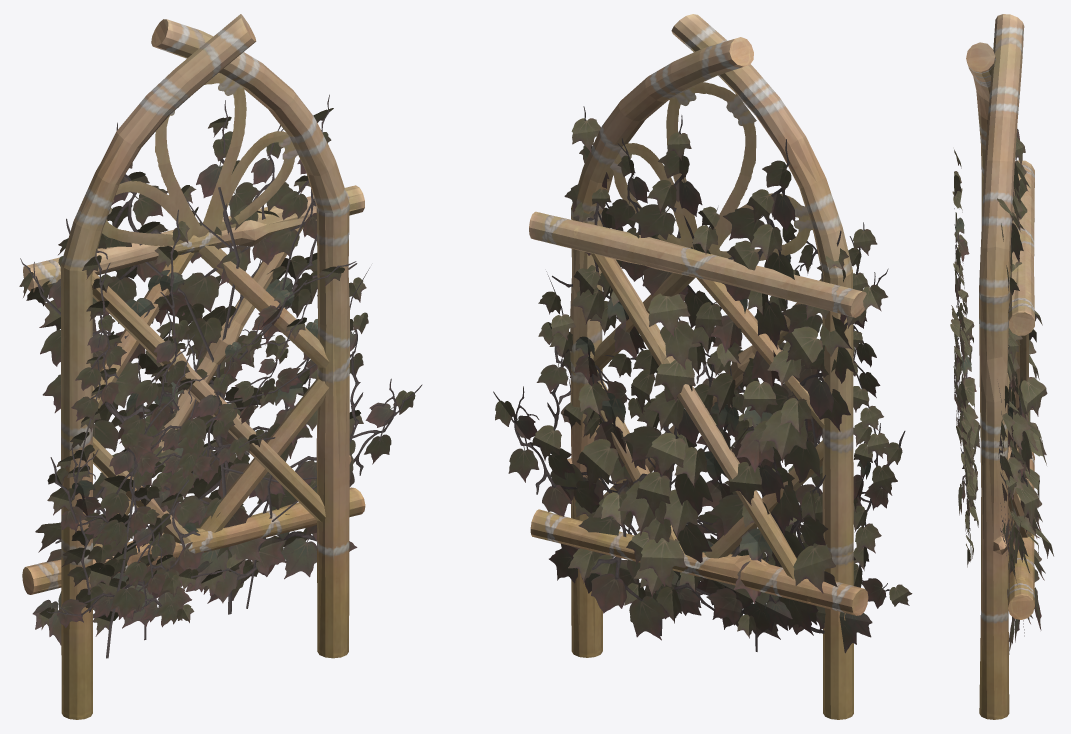
The model's file is P_Rose04.obj.
3 renders of one model, left to right at view 1: azimuth 30°, elevation 25°; view 2: azimuth 150°, elevation 25°; view 3: azimuth 270°, elevation 25°, orthographic. The views are drawn at different scales.
Bounding box in the file's own units: 2.26 × 3.34 × 0.5449.
Materials: 3 (3 with a texture image).
